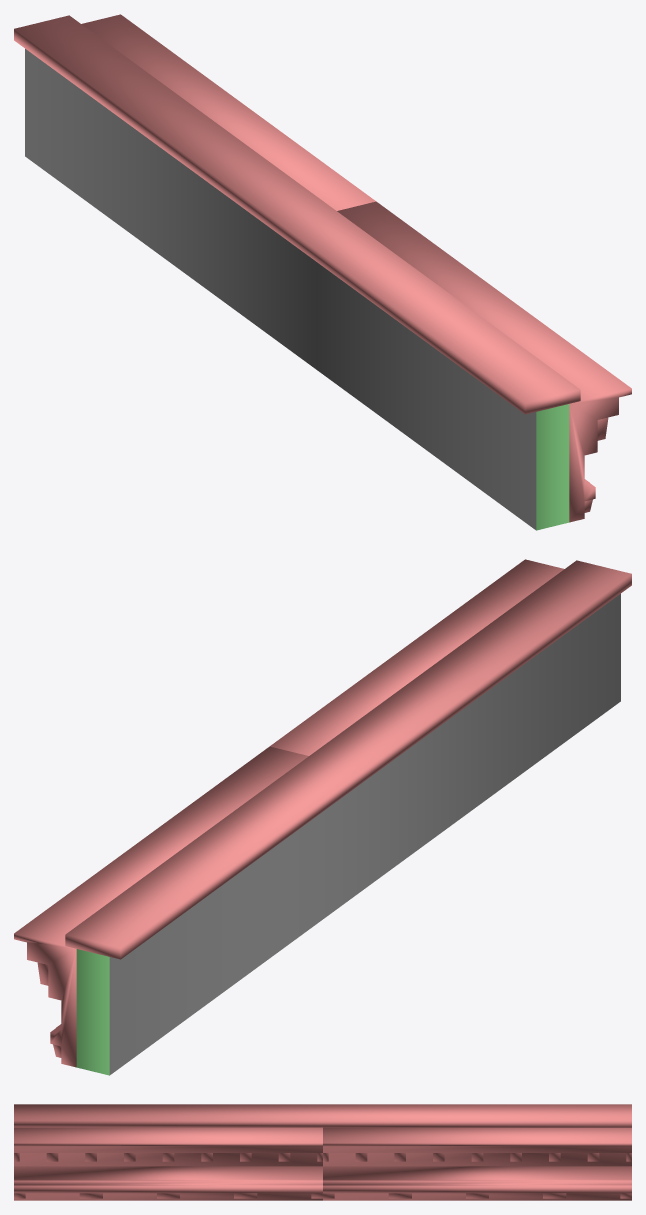
The model's file is SM_cornice_01.gltf.
3 renders of one model, top to bottom at view 1: azimuth 30°, elevation 25°; view 2: azimuth 150°, elevation 25°; view 3: azimuth 270°, elevation 25°, orthographic. The views are drawn at different scales.
Parts seen in each view (by area): view 1: SM_cornice_01; view 2: SM_cornice_01; view 3: SM_cornice_01.
Boxes of the visible parts, x1,y1,x2,y2 form: SM_cornice_01: (14, 14, 631, 530); SM_cornice_01: (14, 559, 631, 1075); SM_cornice_01: (14, 1104, 631, 1200).
Size of the model in its own units: 0.965 by 1.13 by 8.
